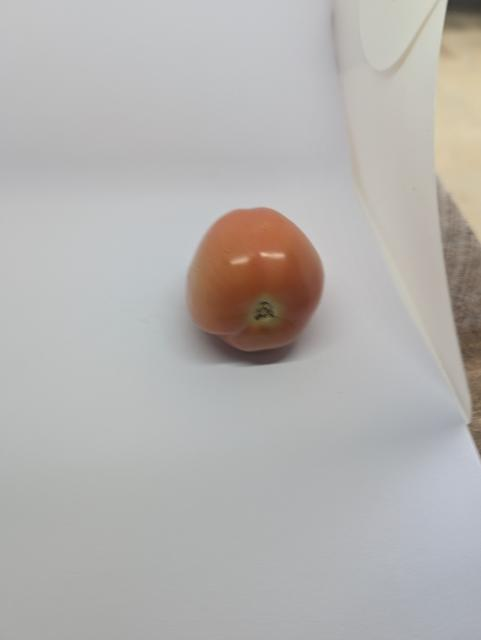turning: (177, 193, 335, 360)
